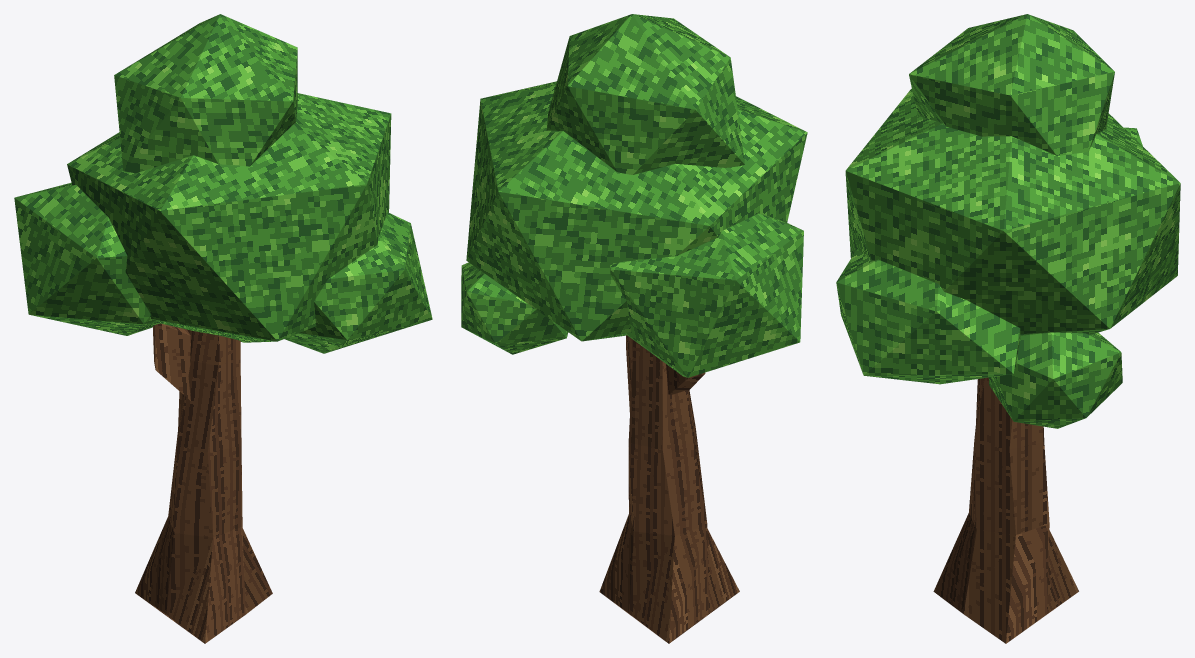
Rendered from tree_oak_a.glb.
3 views of the same model, side by side, from view 1: azimuth 30°, elevation 25°; view 2: azimuth 150°, elevation 25°; view 3: azimuth 270°, elevation 25° (orthographic). The views are drawn at different scales.
Parts seen in each view (by area): view 1: Canopy, Trunk; view 2: Canopy, Trunk; view 3: Canopy, Trunk.
Boxes of the visible parts, x1=… form: Canopy: x1=14, y1=14, x2=432, y2=353; Trunk: x1=135, y1=323, x2=272, y2=643; Canopy: x1=461, y1=14, x2=807, y2=377; Trunk: x1=599, y1=335, x2=739, y2=643; Canopy: x1=836, y1=14, x2=1180, y2=428; Trunk: x1=933, y1=377, x2=1078, y2=643.
Bounding box in the file's own units: 3.42 × 5.64 × 2.89.
2 materials, 2 textured.
